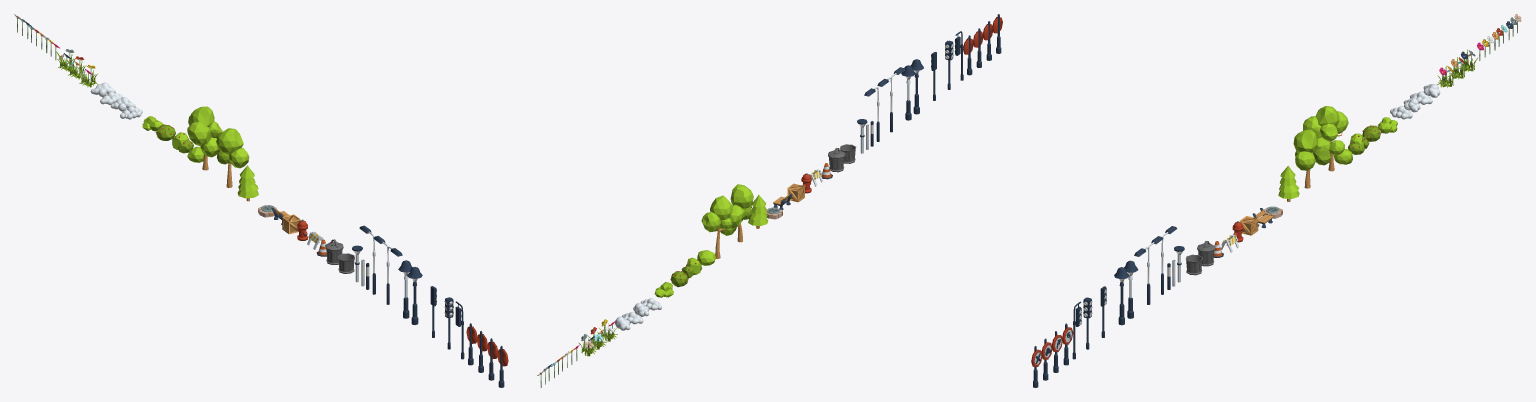
Rendered from TrafficAssets.fbx.
The picture shows the model from 3 angles, left to right: view 1: azimuth 30°, elevation 25°; view 2: azimuth 150°, elevation 25°; view 3: azimuth 330°, elevation 25°; orthographic projection. The views are drawn at different scales.
Visible parts, largest first — view 1: Tree Low Poly.005, Tree Low Poly.016, Low poly tree; view 2: Tree Low Poly.005, Tree Low Poly.016, Low poly tree; view 3: Tree Low Poly.005, Tree Low Poly.016, Low poly tree.
Part boxes in pixels (<box>): Tree Low Poly.005: <box>187,106,222,170</box>; Tree Low Poly.016: <box>216,128,249,187</box>; Low poly tree: <box>237,165,258,201</box>; Tree Low Poly.005: <box>701,195,744,258</box>; Tree Low Poly.016: <box>730,184,753,242</box>; Low poly tree: <box>748,194,768,228</box>; Tree Low Poly.005: <box>1303,106,1348,171</box>; Tree Low Poly.016: <box>1293,129,1330,188</box>; Low poly tree: <box>1278,165,1299,201</box>.
Size of the model in its own units: 85 by 136 by 1866.
